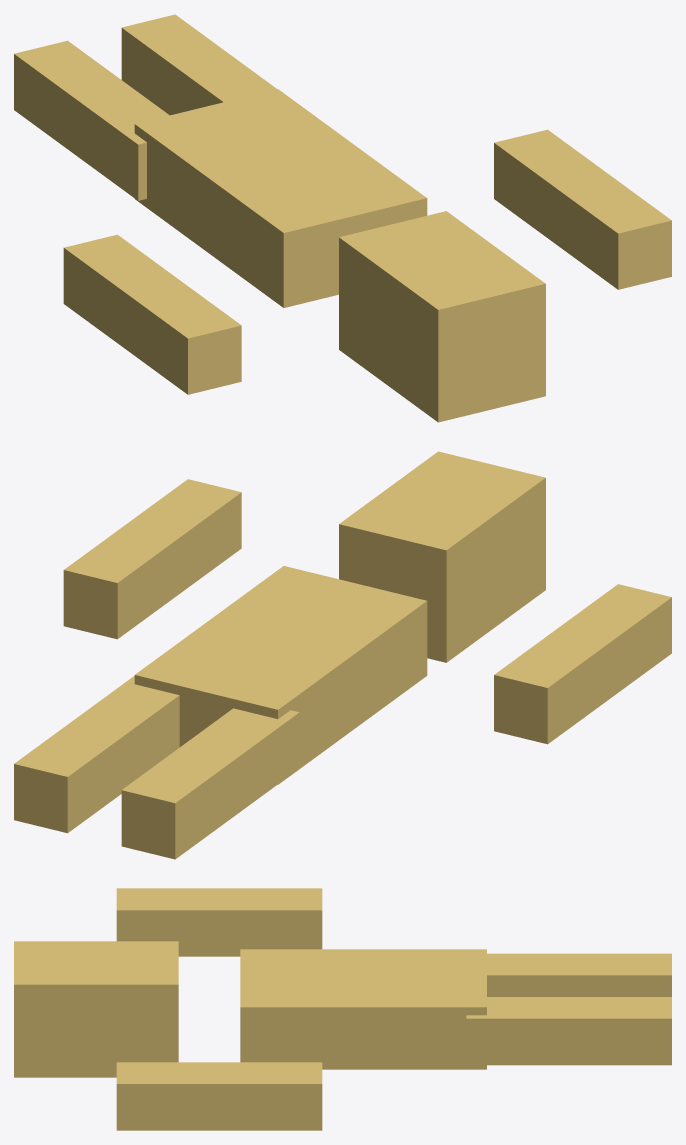
File: anubis_boss.glb
3 views of the same model, one above another, from view 1: azimuth 30°, elevation 25°; view 2: azimuth 150°, elevation 25°; view 3: azimuth 270°, elevation 25° (orthographic). The views are drawn at different scales.
Visible parts, largest first — view 1: anubis_boss; view 2: anubis_boss; view 3: anubis_boss.
Part boxes in pixels (x1,y1,x2,y2): anubis_boss: (14, 14, 671, 422); anubis_boss: (14, 451, 671, 859); anubis_boss: (14, 888, 671, 1130).
Size of the model in its own units: 4.05 by 0.9 by 5.76.
